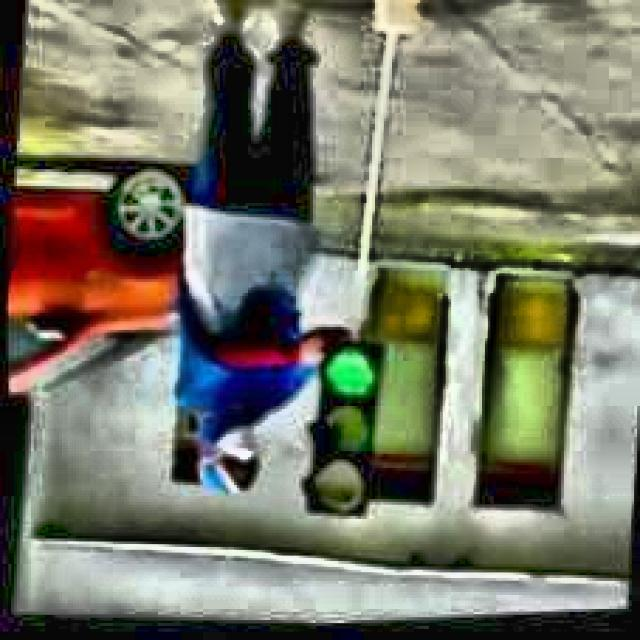green: (306, 344, 382, 524)
